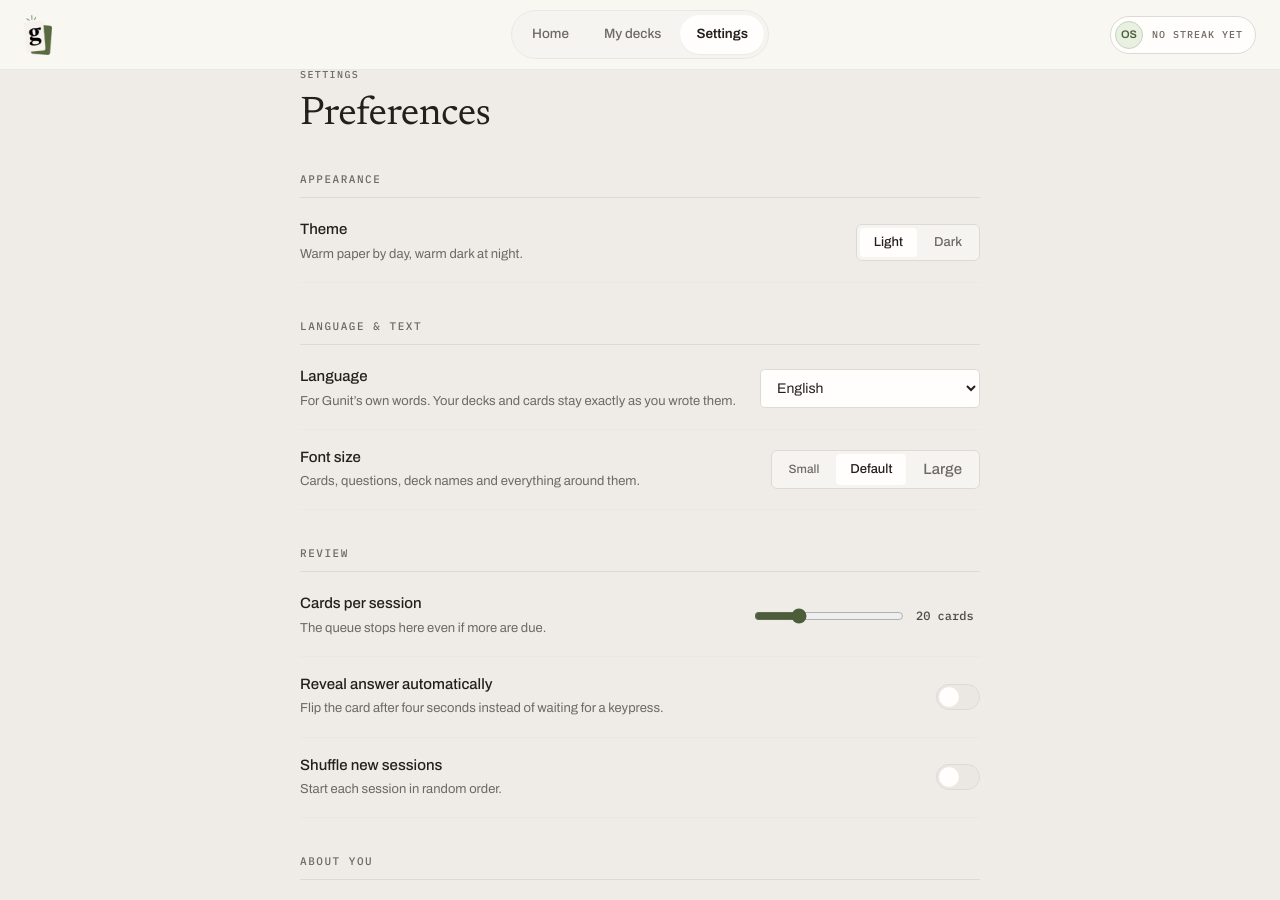
Test case: saving and cancelling › keeps them, with the draft, on Save
This screenshot has width=1280, height=900.
Select "Filipino" in the dropdown labelled "Language" at (870, 389), box [760,369,980,408]
(page scrolled)
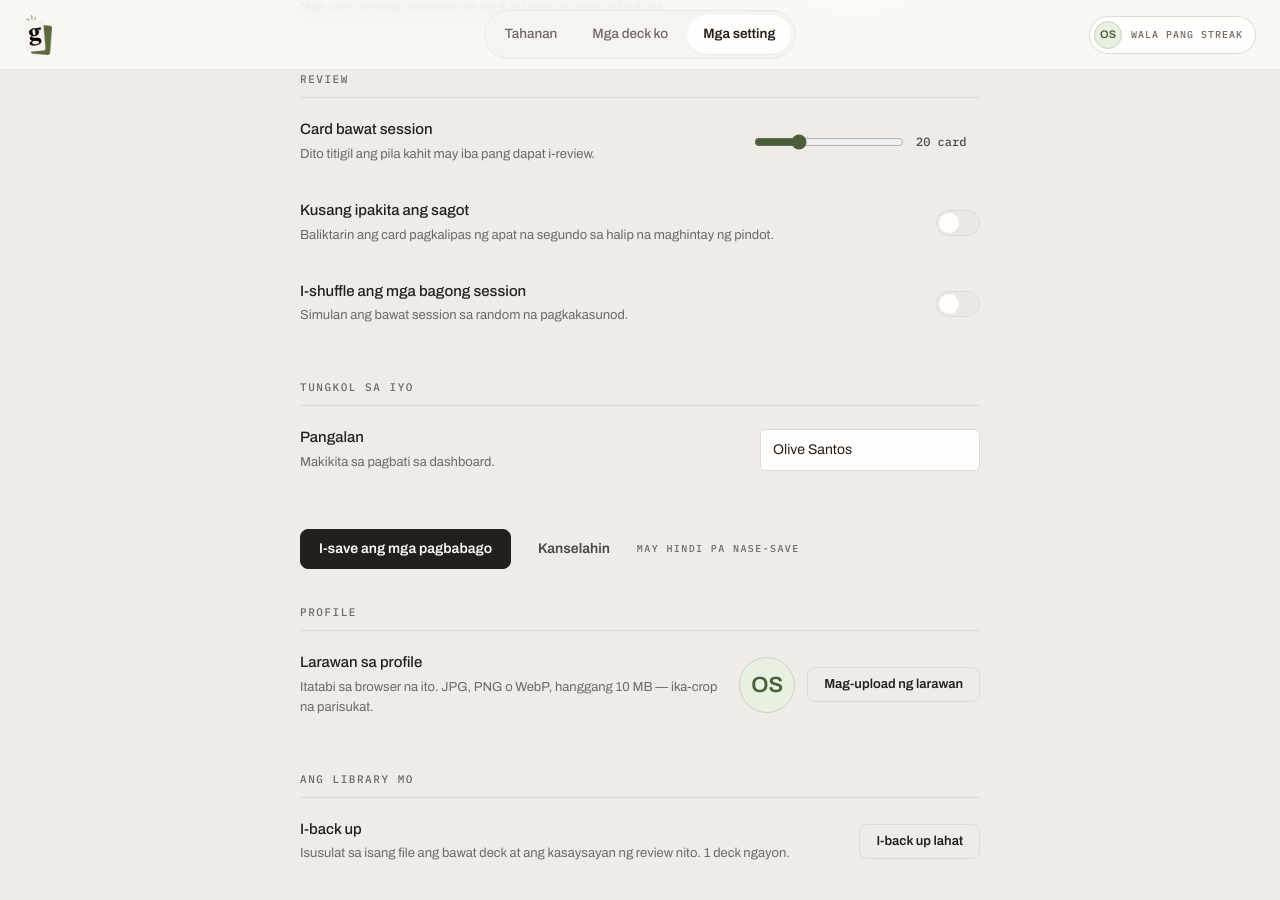
Replace the text in the field named "Pangalan" with "Olive" at (870, 450), box [760,429,980,471]
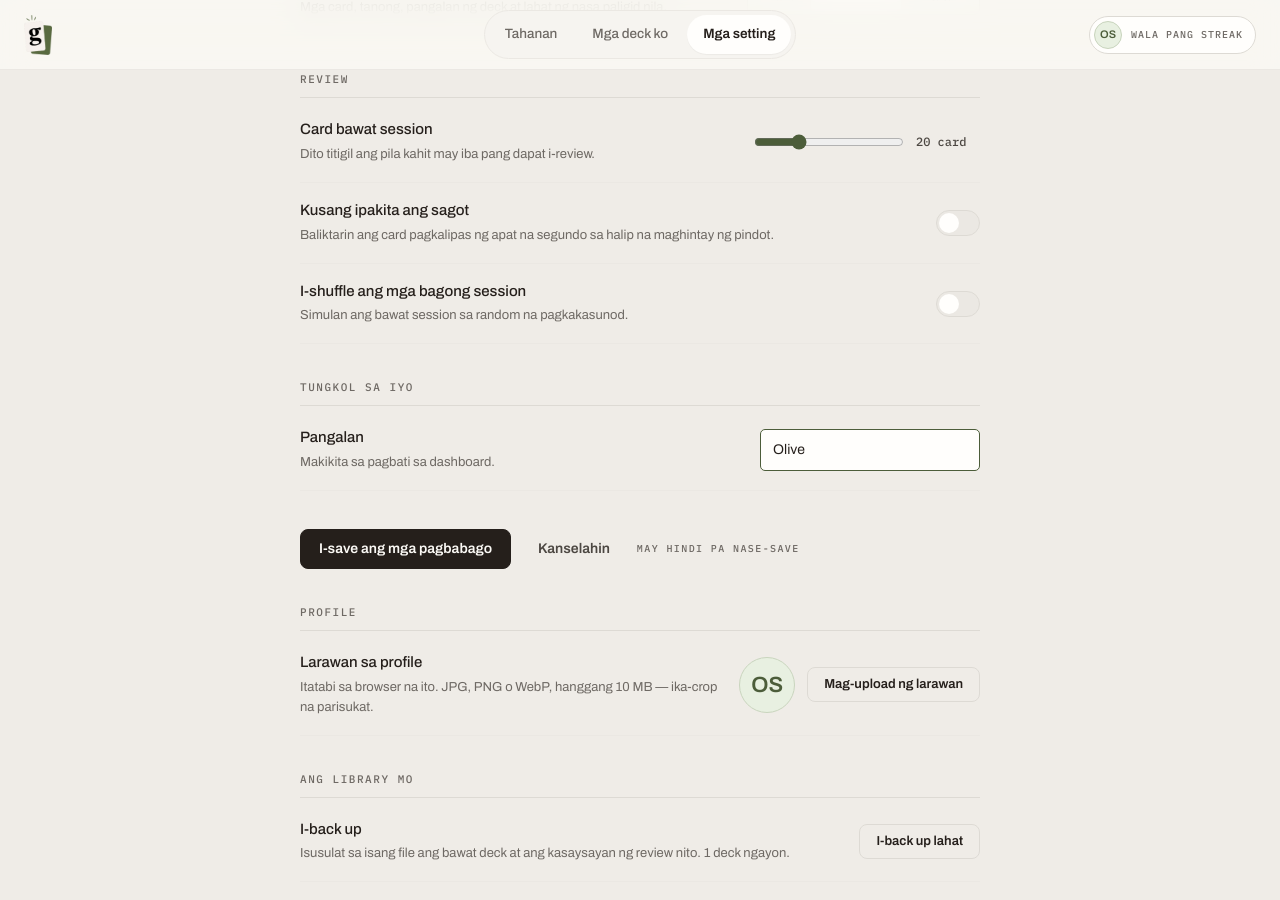
Click the button "I-save ang mga pagbabago" at (406, 549), box [300,529,511,569]
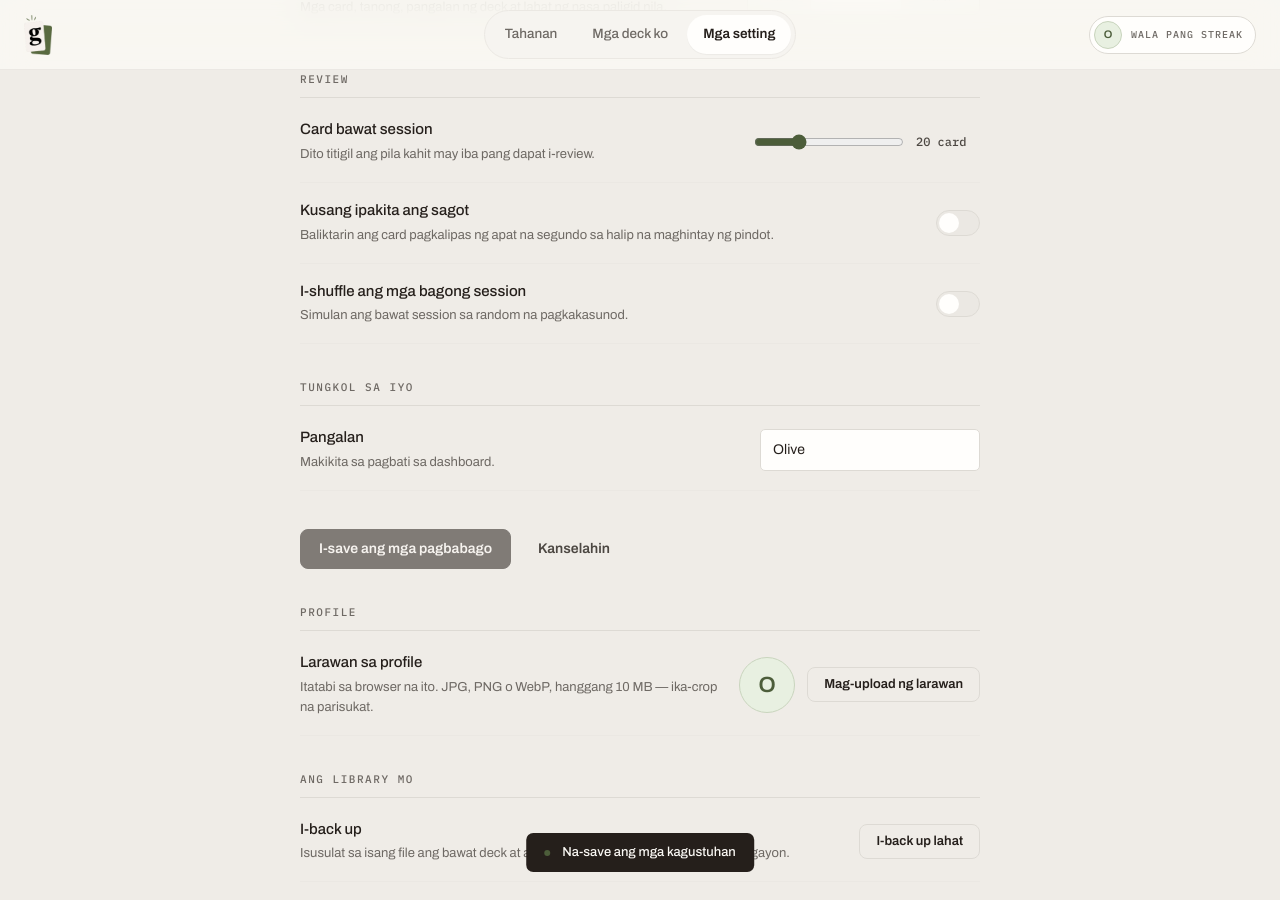
Expected: the text "May hindi pa nase-save" is gone
Expected: the text "Na-save ang mga kagustuhan" is shown, [562,846,736,859]
